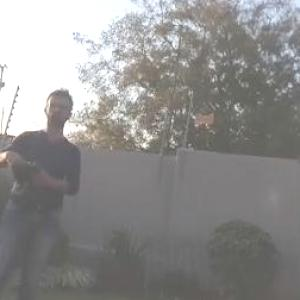follow: (0, 80, 87, 299)
